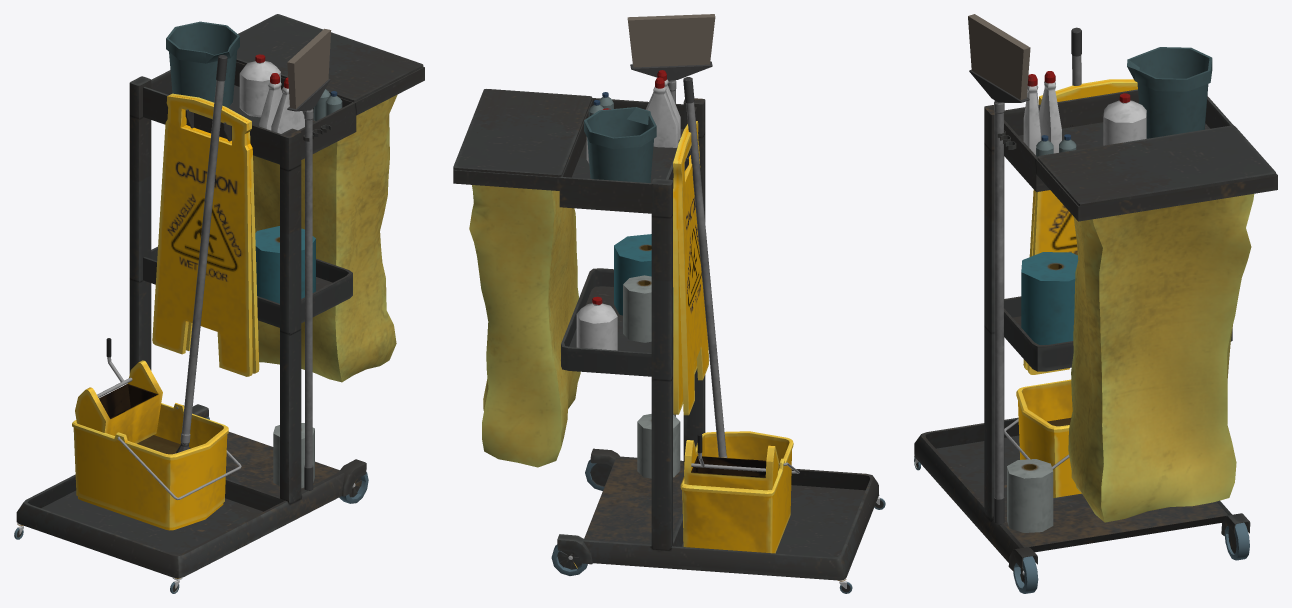
Rendered from cleaning_cart.glb.
3 views of the same model, side by side, from view 1: azimuth 30°, elevation 25°; view 2: azimuth 150°, elevation 25°; view 3: azimuth 270°, elevation 25° (orthographic). The views are drawn at different scales.
Visible parts, largest first — view 1: Cleaning_Cart; view 2: Cleaning_Cart; view 3: Cleaning_Cart.
Part boxes in pixels (x1,y1,x2,y2): Cleaning_Cart: (14,14,424,593); Cleaning_Cart: (453,14,885,593); Cleaning_Cart: (914,14,1277,593).
Size of the model in its own units: 1.07 by 1.25 by 0.78.
1 material, 1 textured.
